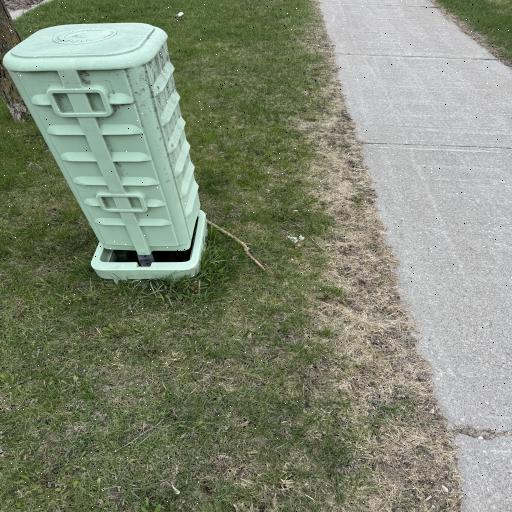Electrical Box: (1, 22, 209, 278)
